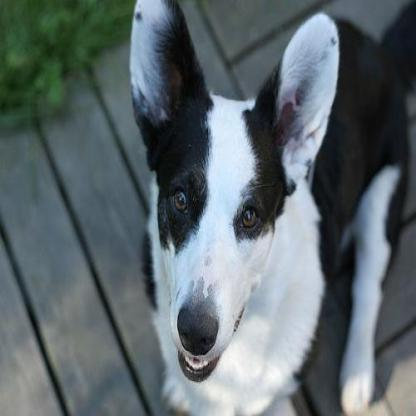Cardigan: (122, 0, 414, 414)
